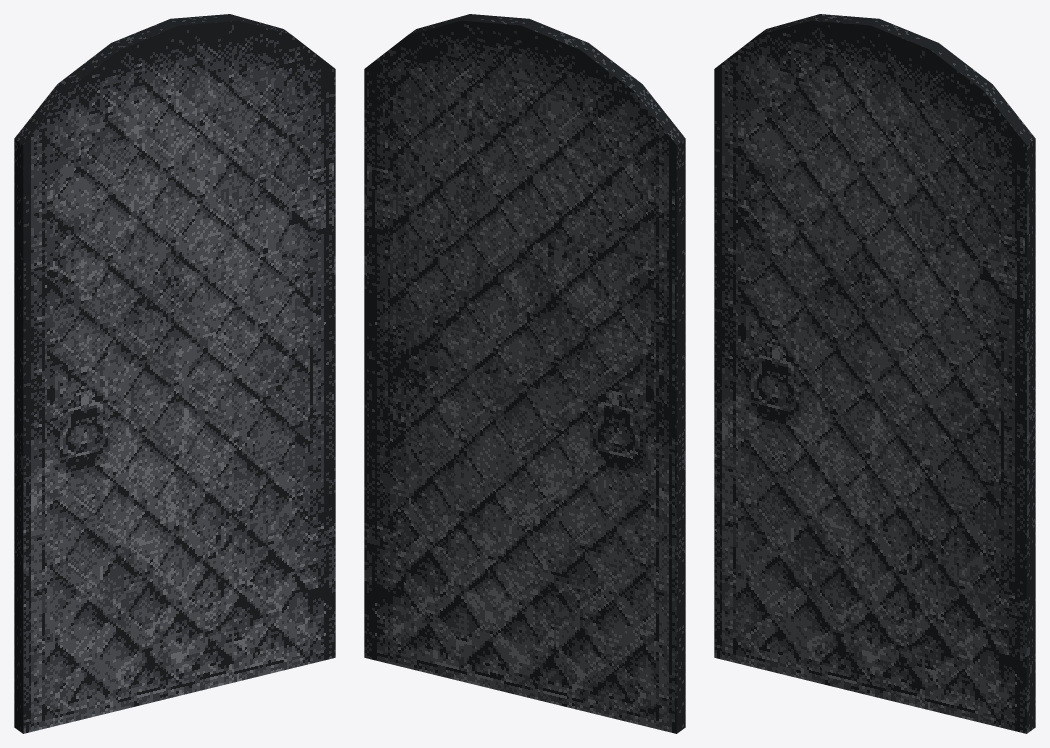
The model's file is mansion-basement-door-mteal.glb.
The picture shows the model from 3 angles, left to right: view 1: azimuth 30°, elevation 25°; view 2: azimuth 150°, elevation 25°; view 3: azimuth 330°, elevation 25°; orthographic projection.
Visible parts, largest first — view 1: mansion-basement_door-col; view 2: mansion-basement_door-col; view 3: mansion-basement_door-col.
Boxes of the visible parts, box(x1,y1,x2,y2) form: mansion-basement_door-col: box(14, 14, 335, 733); mansion-basement_door-col: box(364, 14, 685, 733); mansion-basement_door-col: box(714, 14, 1035, 733).
Bounding box in the file's own units: 1 × 2.05 × 0.05.
Materials: 1 (1 with a texture image).
